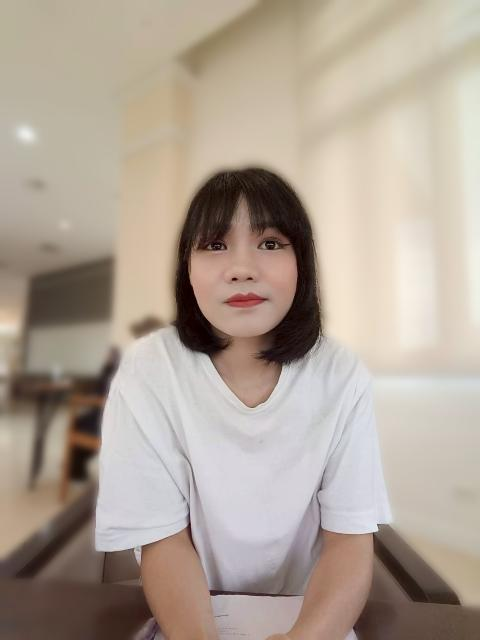fokus: (187, 174, 300, 339)
